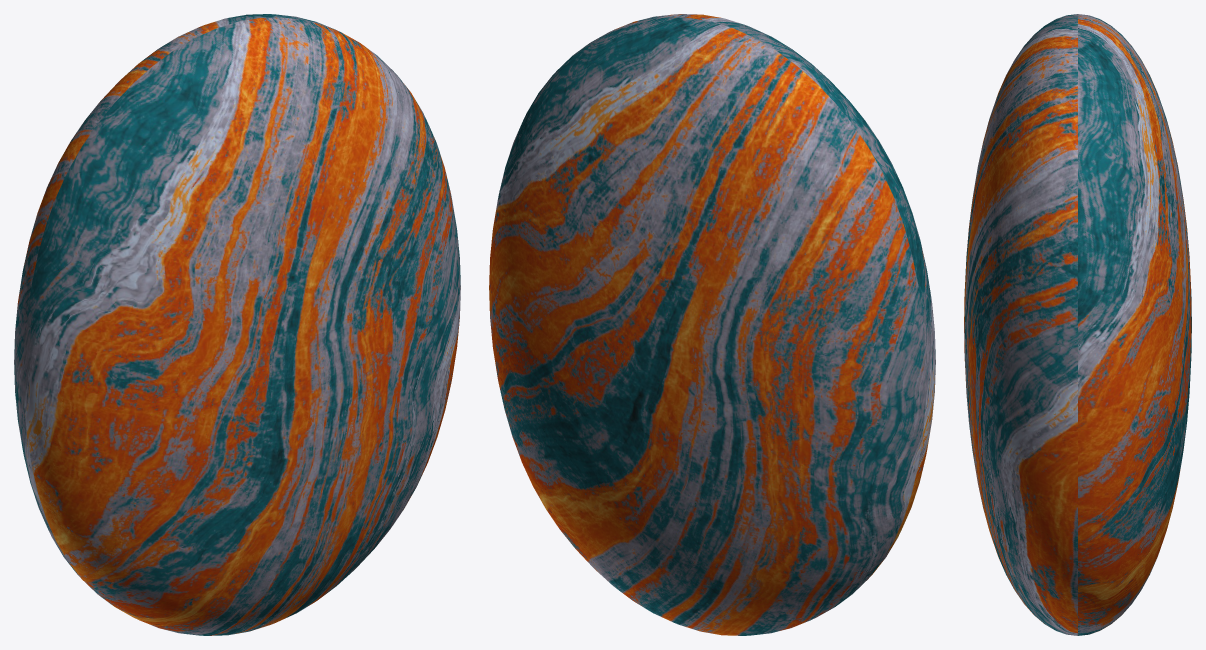
File: Agate.fbx
3 views of the same model, side by side, from view 1: azimuth 30°, elevation 25°; view 2: azimuth 150°, elevation 25°; view 3: azimuth 270°, elevation 25° (orthographic). The views are drawn at different scales.
Visible parts, largest first — view 1: Agate; view 2: Agate; view 3: Agate.
Part boxes in pixels (<box>): Agate: <box>14,14,460,635</box>; Agate: <box>489,14,935,635</box>; Agate: <box>964,14,1191,635</box>.
Bounding box in the file's own units: 0.1398 × 0.1893 × 0.0666.
1 material, 1 textured.
